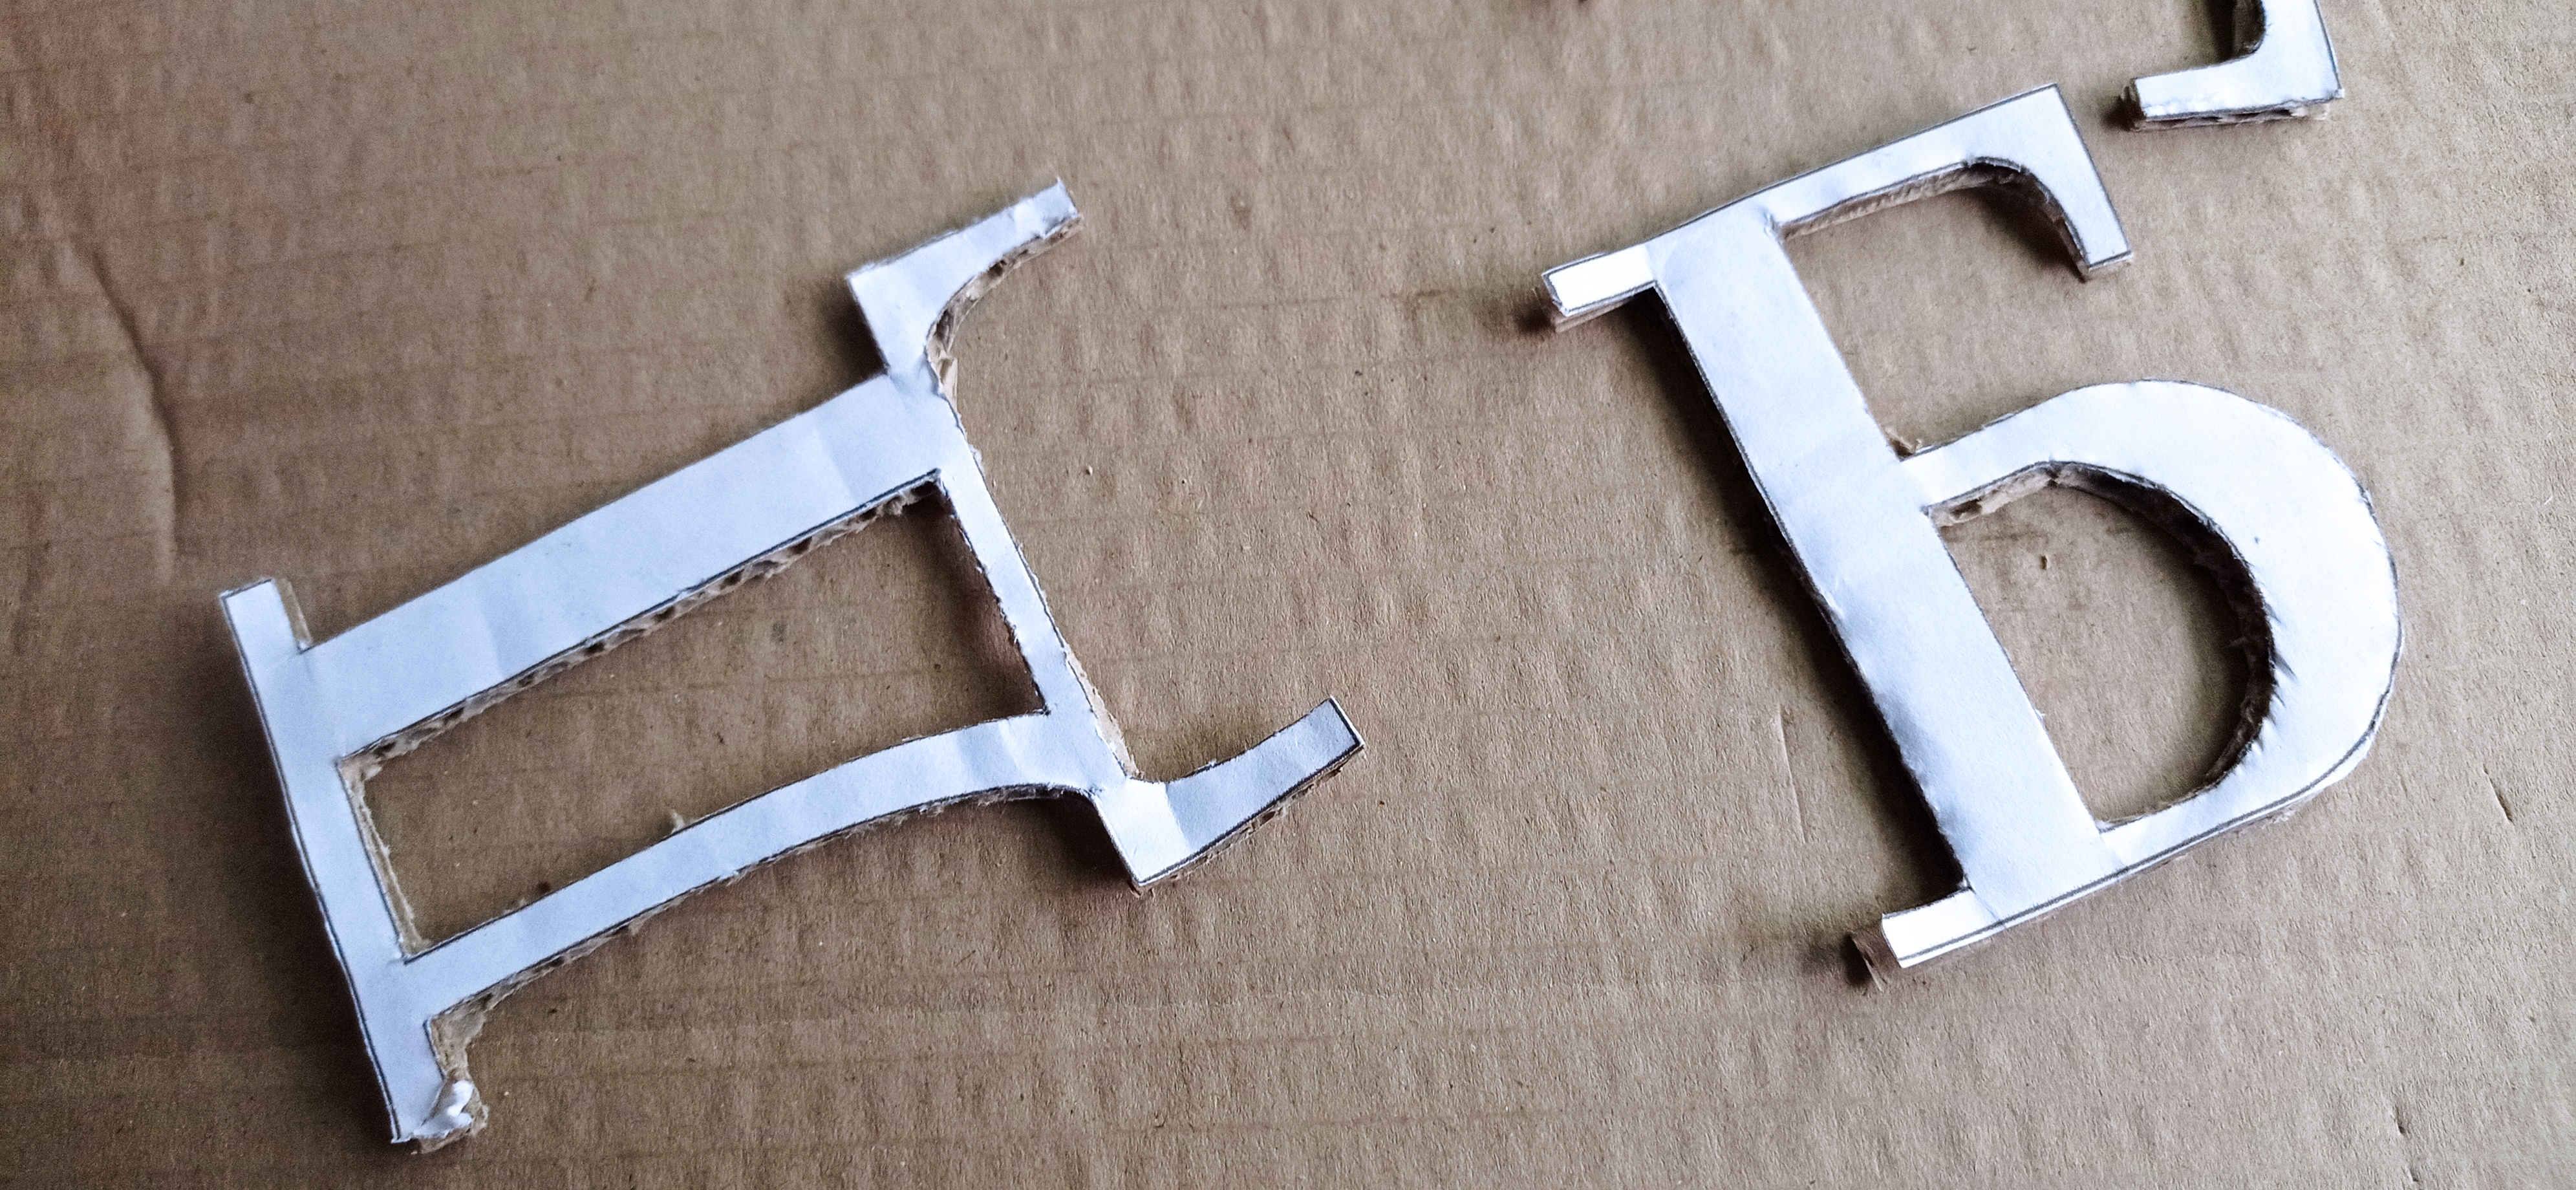b: (1538, 77, 2407, 986)
d: (215, 186, 1365, 1157)
